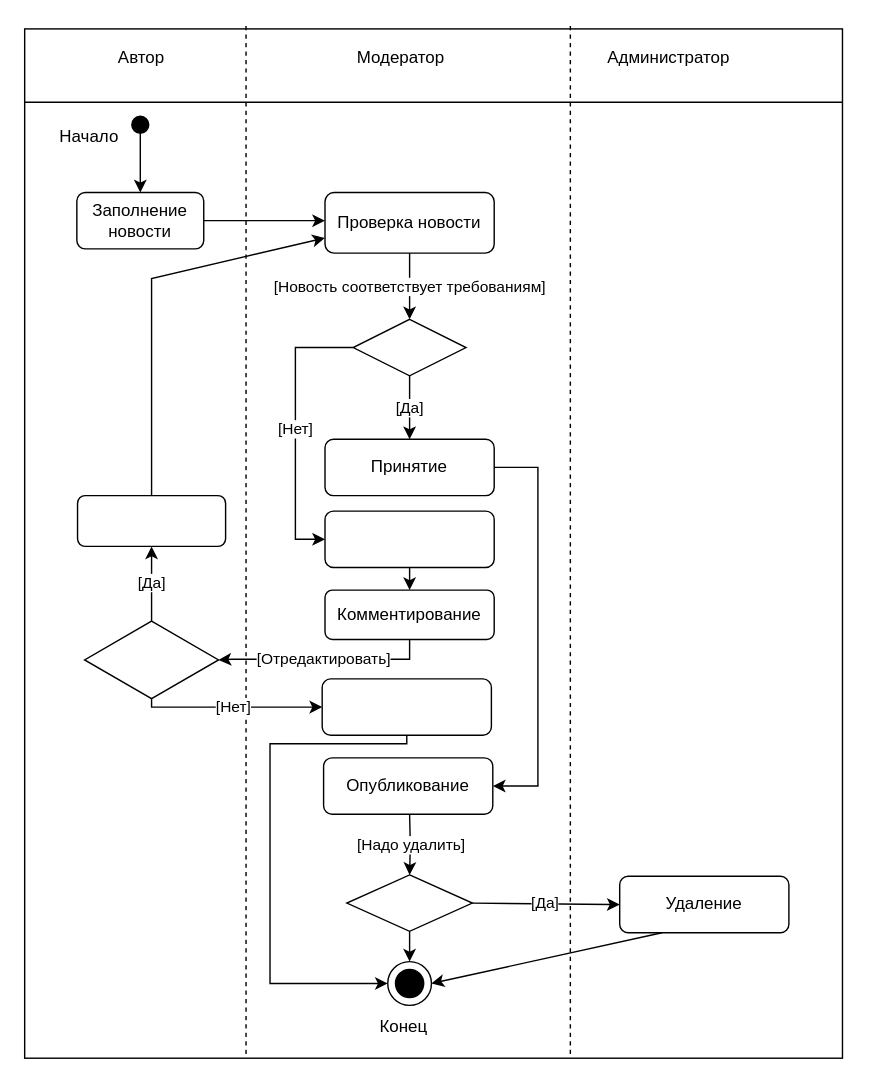
This 869x1083 diagram has some shape labels left out. Here are the shapes that lost their labels. From the top down, the centre of each, then its label:
At (151,520): "Редактирование".
At (409,539): "Отклонение".
At (406,706): "Удаление из БД".
